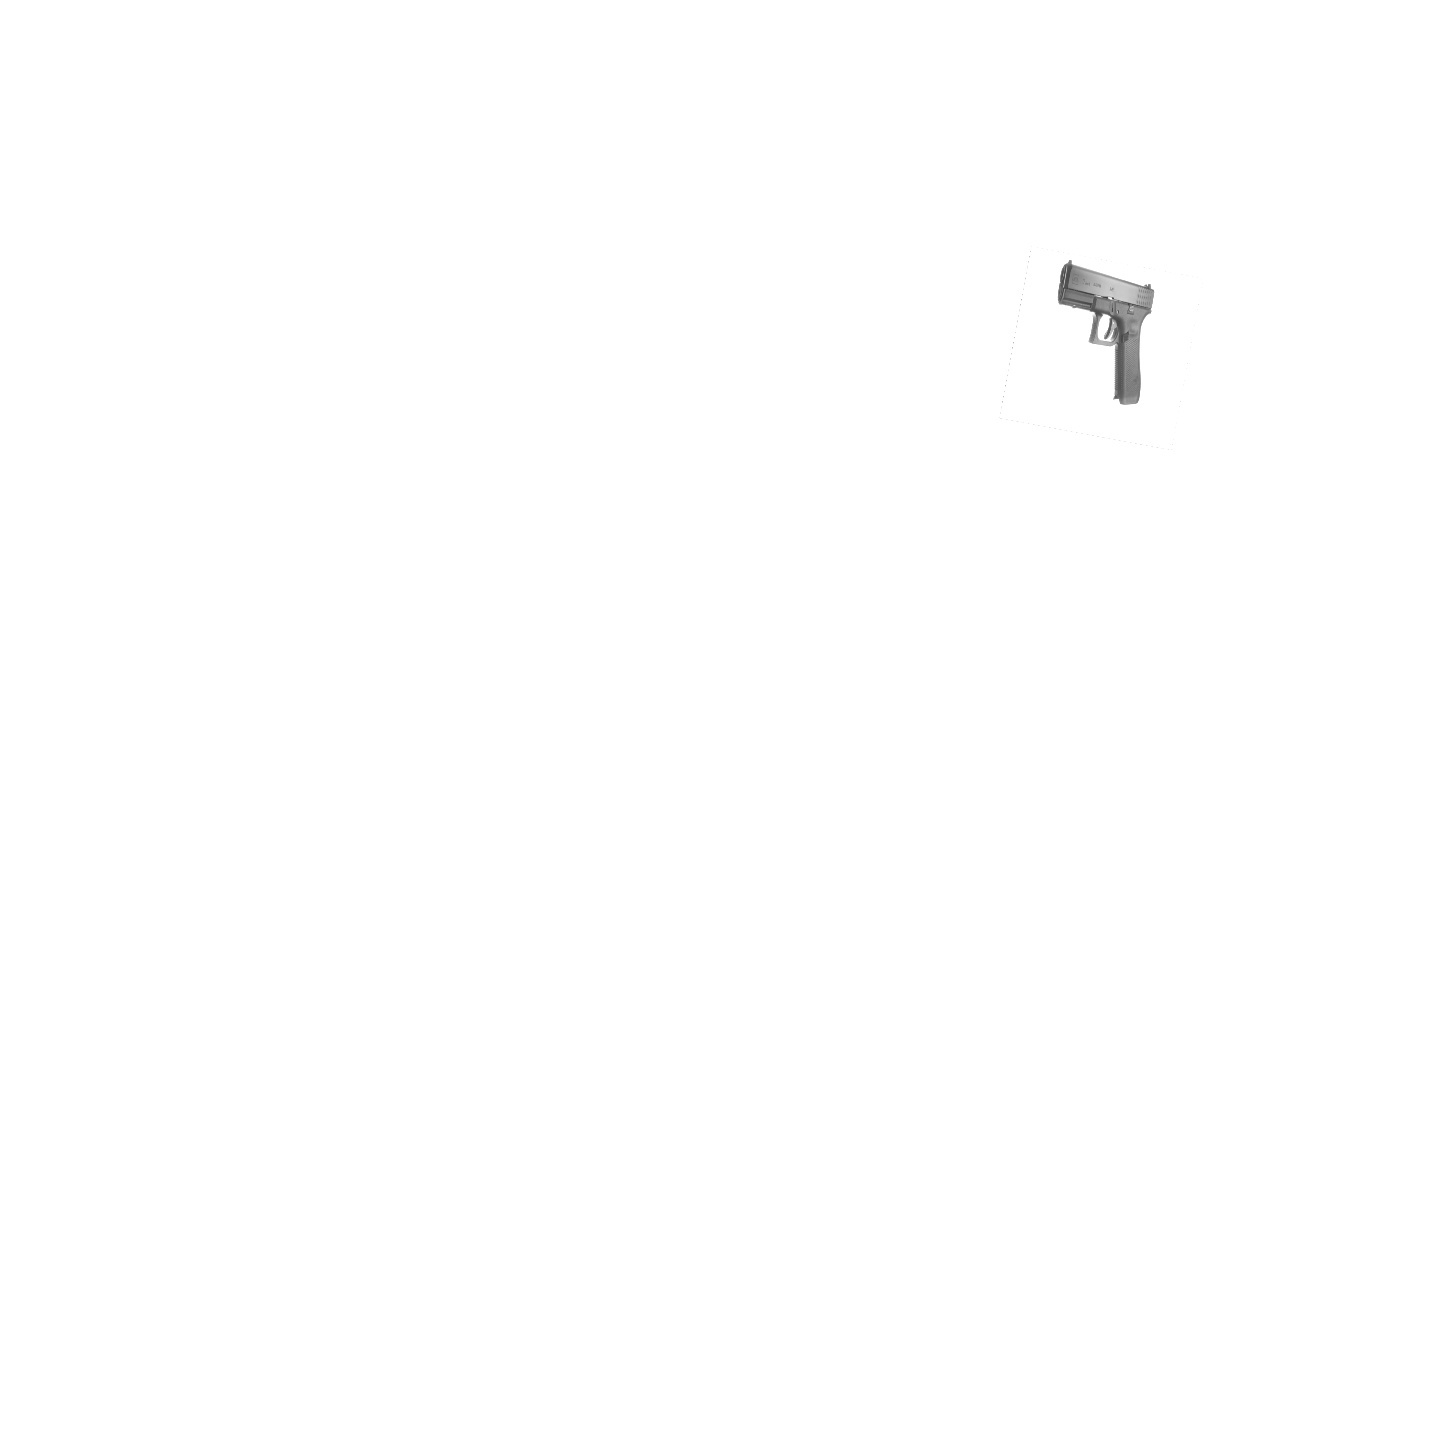gun: (1057, 262, 1154, 403)
